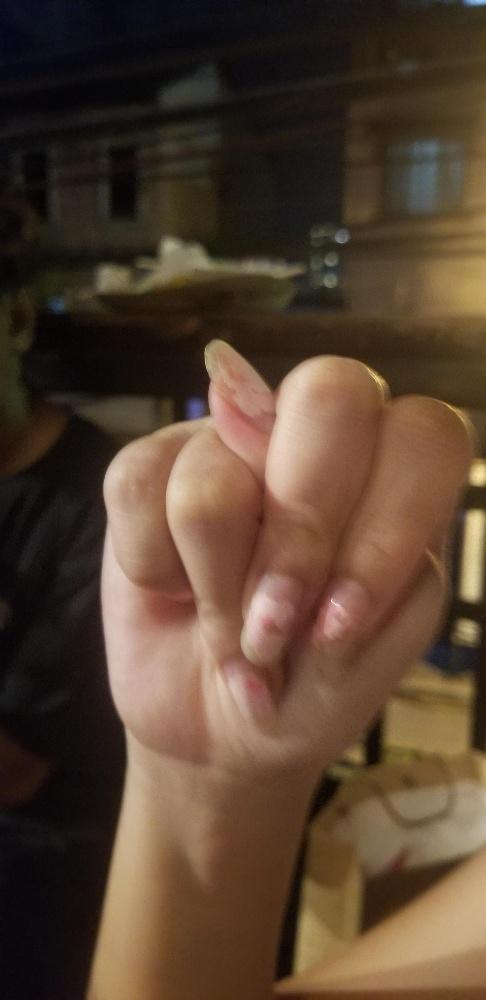n: (97, 334, 477, 780)
